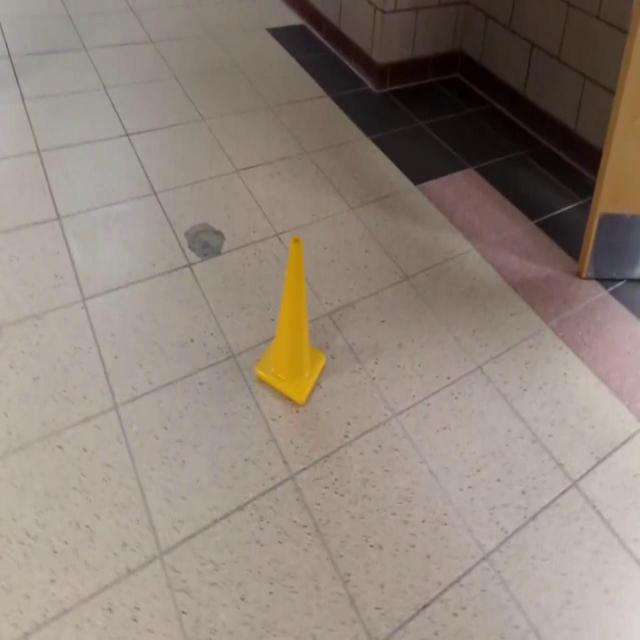frc_cone: (253, 235, 327, 406)
